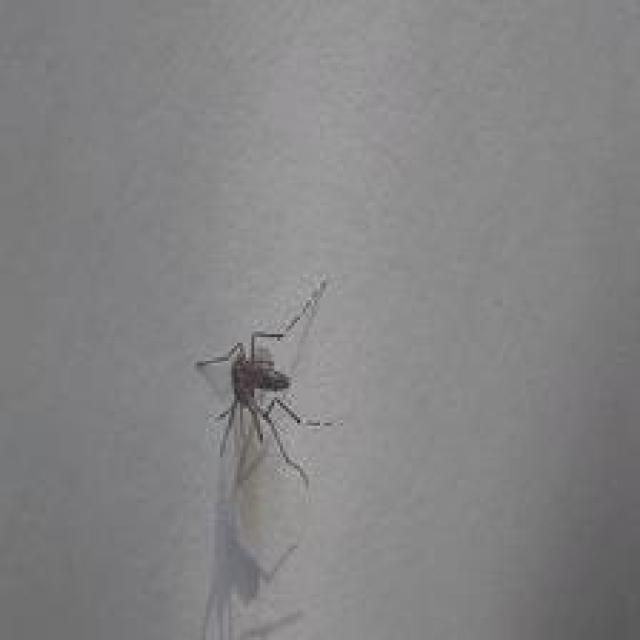Aedes albopictus: (186, 276, 343, 638)
